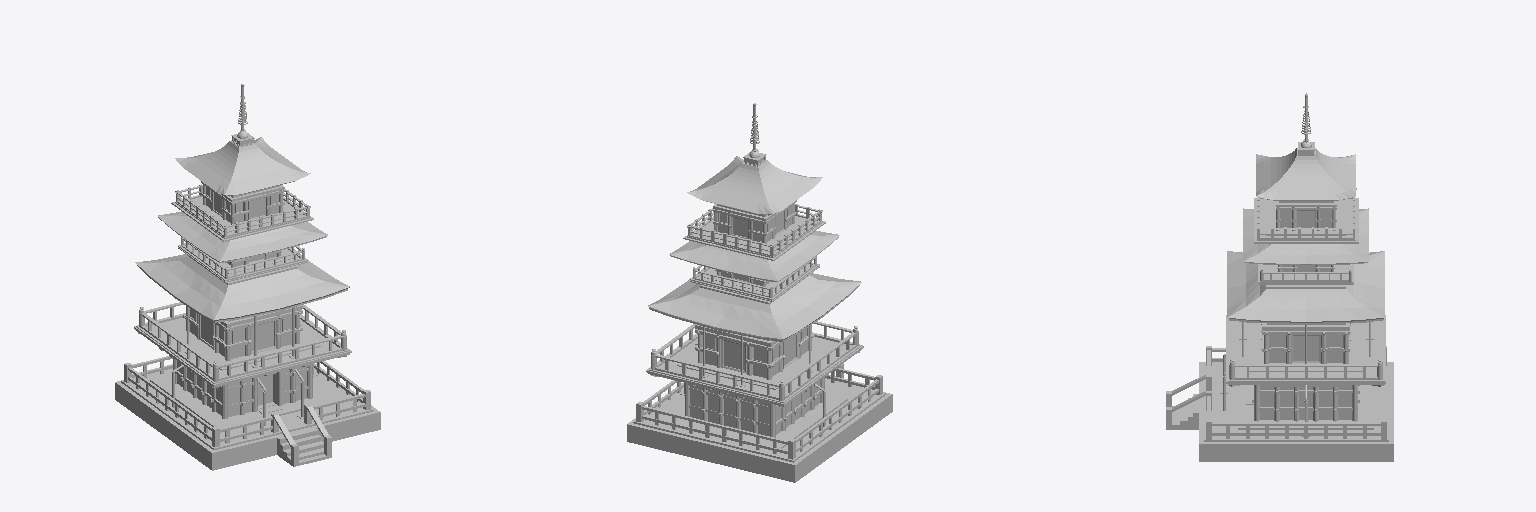
Rendered from Temple1.obj.
3 views of the same model, side by side, from view 1: azimuth 30°, elevation 25°; view 2: azimuth 150°, elevation 25°; view 3: azimuth 270°, elevation 25° (orthographic).
Parts seen in each view (by area): view 1: Japanese_Shrine_ID7; view 2: Japanese_Shrine_ID7; view 3: Japanese_Shrine_ID7.
Part boxes in pixels (x1,y1,x2,y2): Japanese_Shrine_ID7: (115, 84, 380, 470); Japanese_Shrine_ID7: (627, 103, 892, 482); Japanese_Shrine_ID7: (1166, 93, 1393, 461).
Bounding box in the file's own units: 20 × 37.38 × 23.4.